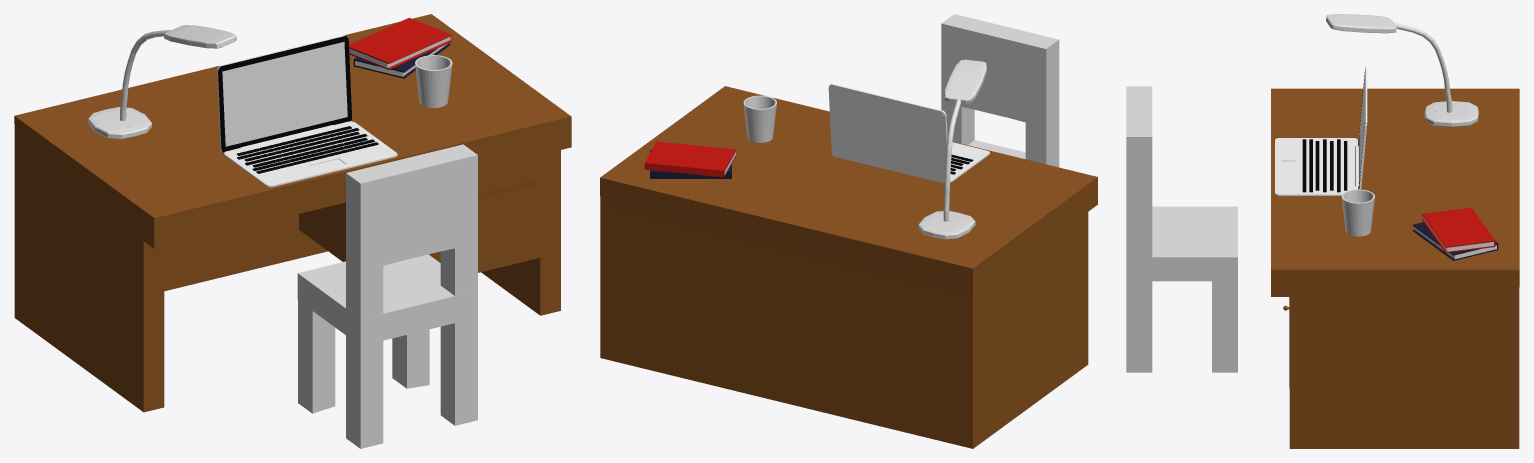
File: tableAndChair.fbx
The picture shows the model from 3 angles, left to right: view 1: azimuth 30°, elevation 25°; view 2: azimuth 150°, elevation 25°; view 3: azimuth 270°, elevation 25°; orthographic projection. The views are drawn at different scales.
Parts seen in each view (by area): view 1: 立方体, 立方体.001, 立方体.006, 立方体.007, 立方体.005, 柱体; view 2: 立方体, 立方体.001, 立方体.006, 立方体.007, 立方体.005, 柱体; view 3: 立方体, 立方体.001, 立方体.006, 立方体.007, 立方体.005, 柱体, 立方体.003.
Boxes of the visible parts, left/top/right/bottom form: 立方体: left=14, top=14, right=571, bottom=412; 立方体.001: left=297, top=144, right=477, bottom=448; 立方体.006: left=217, top=35, right=397, bottom=187; 立方体.007: left=87, top=25, right=236, bottom=139; 立方体.005: left=349, top=17, right=451, bottom=69; 柱体: left=415, top=55, right=452, bottom=107; 立方体: left=600, top=86, right=1097, bottom=448; 立方体.001: left=941, top=14, right=1059, bottom=167; 立方体.006: left=828, top=83, right=989, bottom=183; 立方体.007: left=918, top=59, right=986, bottom=239; 立方体.005: left=644, top=141, right=736, bottom=177; 柱体: left=743, top=95, right=776, bottom=142; 立方体: left=1271, top=88, right=1519, bottom=448; 立方体.001: left=1126, top=86, right=1237, bottom=372; 立方体.006: left=1275, top=66, right=1367, bottom=195; 立方体.007: left=1326, top=14, right=1478, bottom=127; 立方体.005: left=1422, top=207, right=1495, bottom=253; 柱体: left=1341, top=189, right=1374, bottom=236; 立方体.003: left=1412, top=222, right=1498, bottom=260.
Size of the model in its own units: 1052 by 798 by 968.
